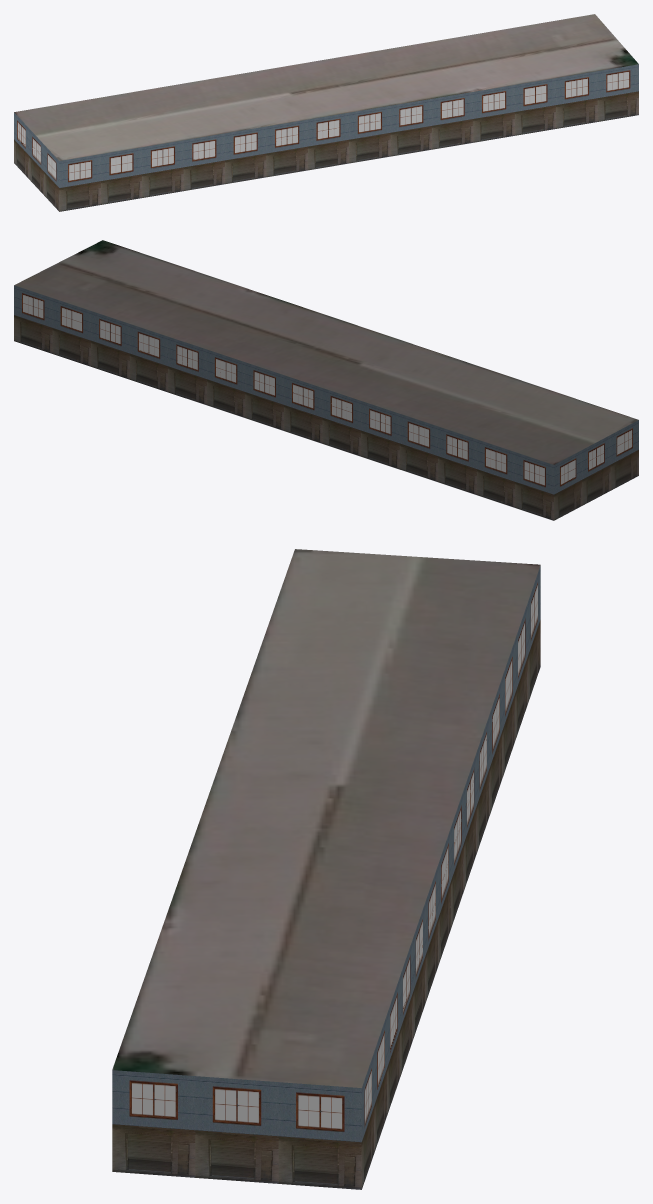
Rendered from E_1SGG84PLTL.dae.
3 renders of one model, top to bottom at view 1: azimuth 30°, elevation 25°; view 2: azimuth 150°, elevation 25°; view 3: azimuth 270°, elevation 25°, orthographic. The views are drawn at different scales.
Parts seen in each view (by area): view 1: SketchUp (×5); view 2: SketchUp (×5); view 3: SketchUp (×5).
Part boxes in pixels (x1,y1,x2,y2): SketchUp (×5): [14, 14, 638, 211]; SketchUp (×5): [14, 240, 638, 520]; SketchUp (×5): [112, 549, 540, 1189].
Bounding box in the file's own units: 80.09 × 26.91 × 7.05.
3 materials, 3 textured.
